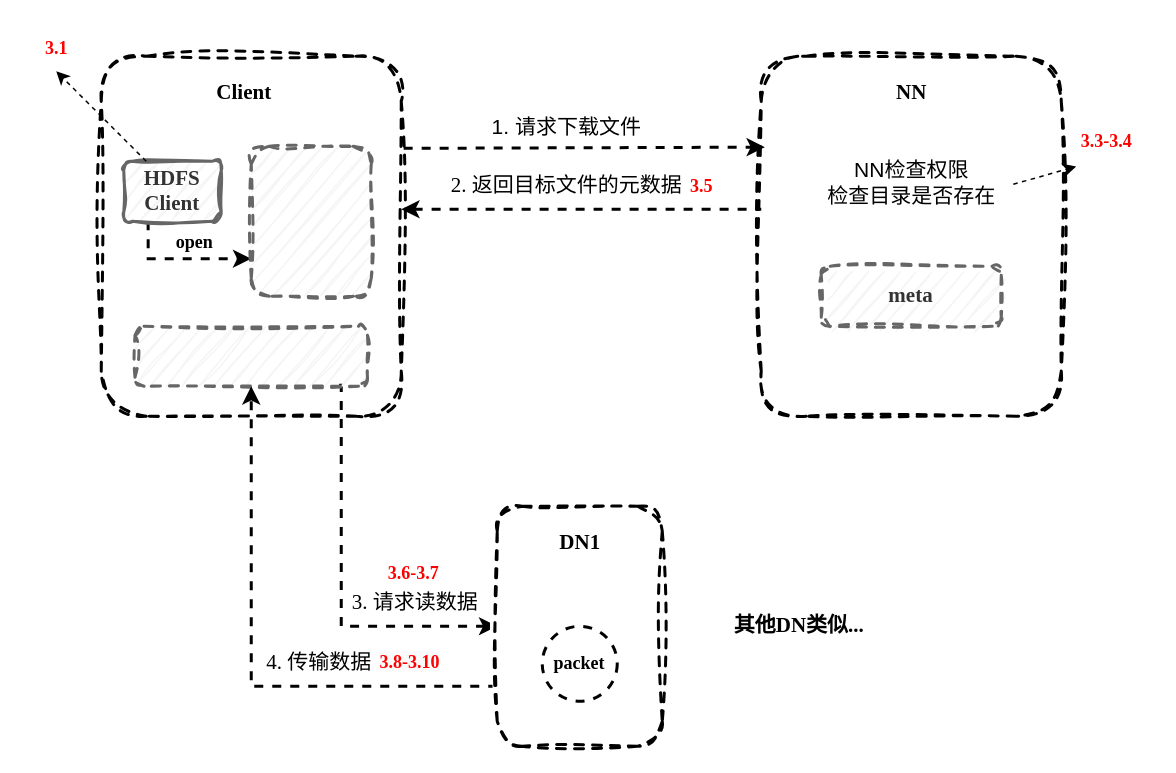
The diagram is 1176 pixels wide and 773 high, and some of its shapes have lost their labels. The centre of each missing label's shape, as x and y in pixels:
"Distributed FileSystem" goes at point (310, 220).
"FSDataInputStream" goes at point (250, 355).
